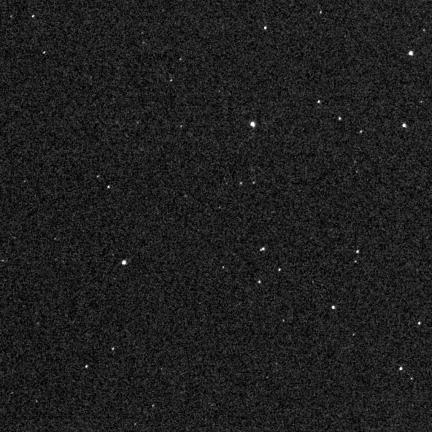blob: (251, 122, 255, 127), (409, 51, 413, 56), (122, 260, 126, 265), (418, 322, 422, 326), (332, 306, 336, 310), (260, 248, 265, 251), (339, 117, 342, 122), (400, 367, 403, 371), (360, 130, 363, 134), (264, 27, 268, 30), (403, 123, 406, 127), (240, 182, 243, 186), (32, 15, 35, 19), (318, 100, 321, 104), (85, 365, 88, 368), (108, 186, 111, 189), (112, 348, 115, 351), (279, 268, 281, 272), (258, 281, 261, 283), (357, 250, 359, 253)
